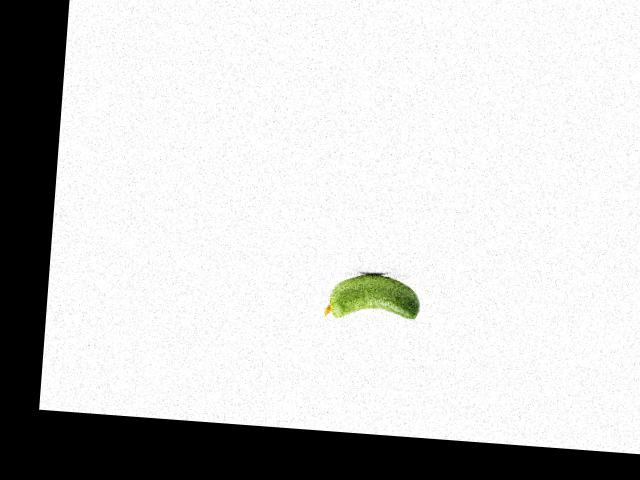cucumber: (323, 270, 422, 324)
